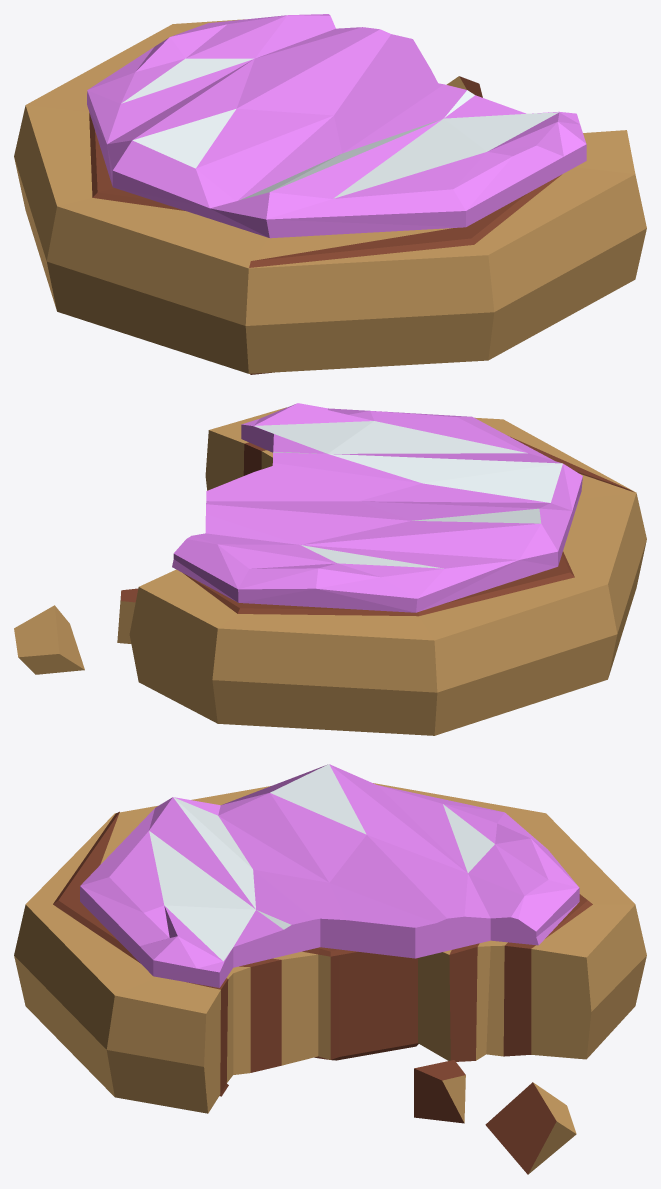
The model's file is SnackCinnaBuddyPinkBites.001.fbx.
3 views of the same model, one above another, from view 1: azimuth 30°, elevation 25°; view 2: azimuth 150°, elevation 25°; view 3: azimuth 270°, elevation 25° (orthographic). The views are drawn at different scales.
Visible parts, largest first — view 1: SnackCinnaBuddyPinkBites.001; view 2: SnackCinnaBuddyPinkBites.001; view 3: SnackCinnaBuddyPinkBites.001.
Part boxes in pixels (x1=…): SnackCinnaBuddyPinkBites.001: x1=14, y1=14, x2=646, y2=374; SnackCinnaBuddyPinkBites.001: x1=14, y1=403, x2=646, y2=735; SnackCinnaBuddyPinkBites.001: x1=14, y1=764, x2=646, y2=1174.
Size of the model in its own units: 43.06 by 15.19 by 44.45.
